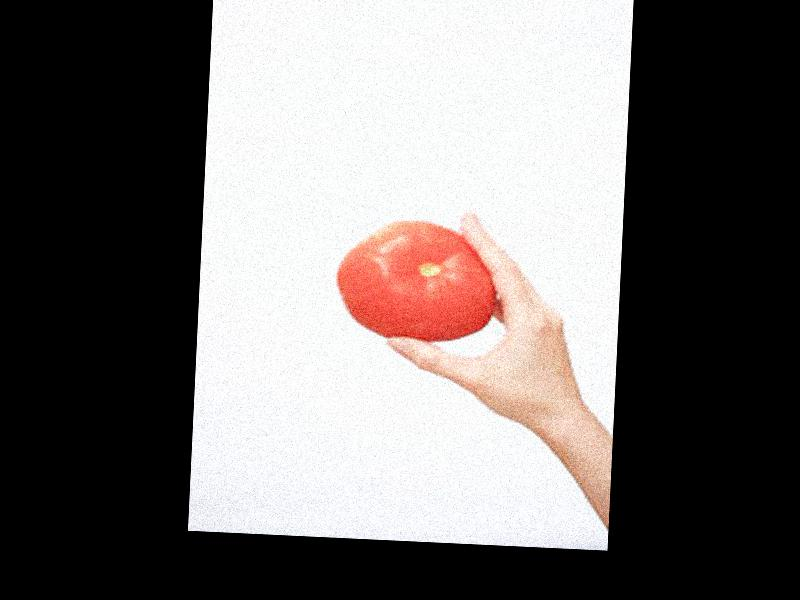Tomato: (335, 217, 495, 344)
